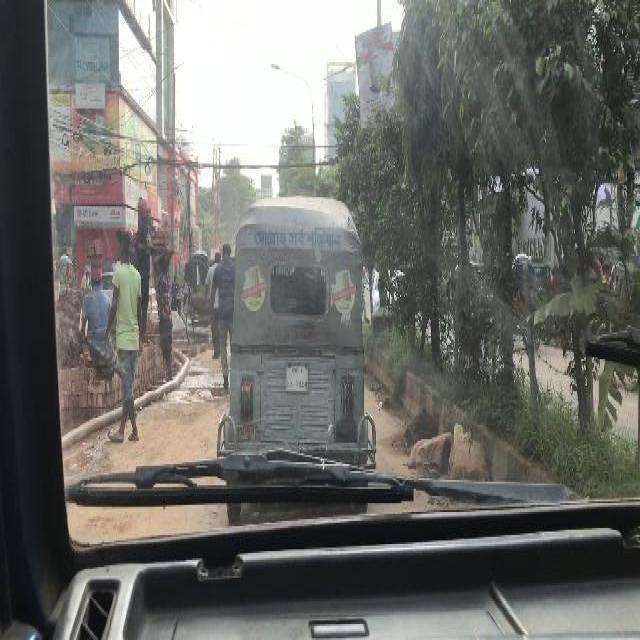car: (84, 270, 160, 331)
rickshaw: (184, 256, 216, 345), (512, 254, 538, 343), (56, 250, 74, 290)
three wheelers -CNG-: (216, 192, 376, 519)
